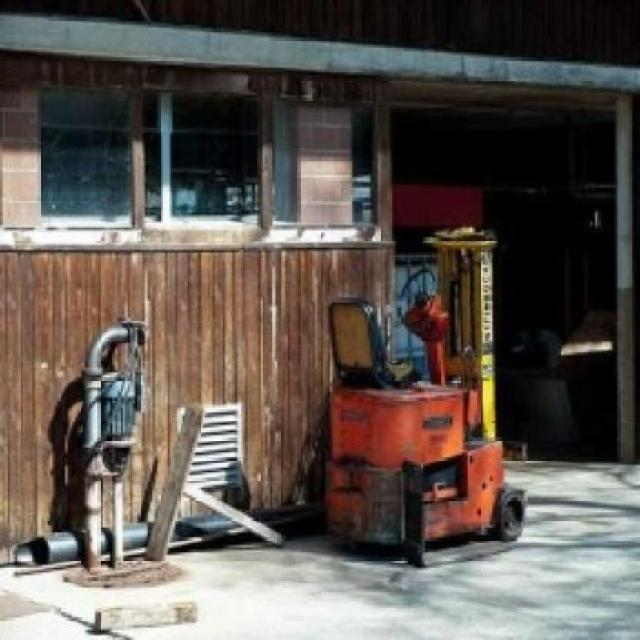forklift: (330, 233, 528, 568)
